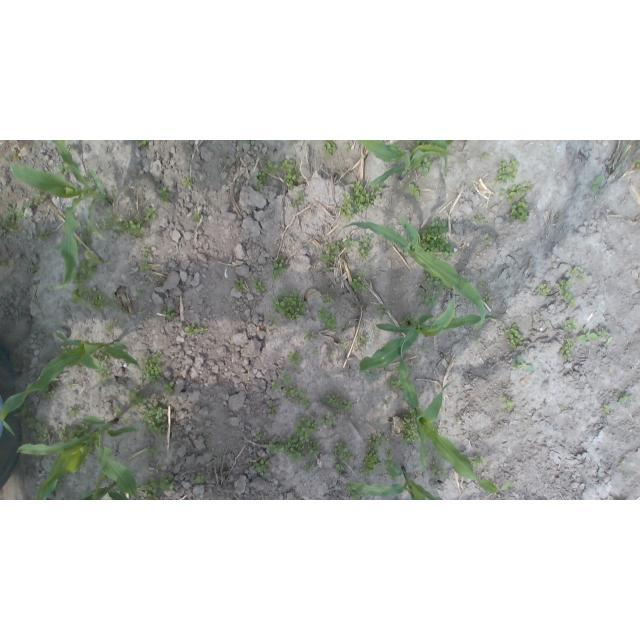Maize: (399, 339, 512, 493), (338, 217, 486, 332), (0, 140, 112, 291), (0, 328, 144, 433), (359, 285, 510, 372), (16, 417, 141, 500), (360, 140, 453, 186), (338, 467, 446, 500), (72, 480, 137, 500)
Weeds: (419, 217, 458, 261), (341, 182, 375, 222), (273, 287, 307, 321), (267, 436, 306, 465), (141, 402, 171, 435), (73, 251, 102, 283), (1, 203, 26, 236), (140, 351, 165, 383), (399, 413, 421, 445), (280, 158, 301, 190), (323, 393, 353, 415), (57, 424, 91, 443), (26, 417, 50, 442), (494, 155, 515, 183), (358, 450, 381, 475), (320, 240, 340, 268), (98, 213, 122, 236), (510, 197, 532, 222), (317, 307, 339, 332), (422, 271, 447, 291), (138, 478, 160, 500), (294, 417, 318, 437), (128, 388, 147, 413), (364, 431, 390, 449), (428, 460, 450, 481), (123, 216, 146, 236), (350, 272, 370, 295), (331, 442, 353, 462), (88, 289, 108, 311), (69, 284, 90, 304), (505, 324, 524, 346), (271, 257, 288, 280), (511, 354, 534, 371), (498, 185, 518, 204), (385, 374, 403, 395), (576, 326, 598, 343), (596, 325, 612, 347), (304, 437, 321, 457), (559, 339, 575, 360), (420, 290, 438, 308), (29, 191, 47, 209), (39, 381, 56, 400), (358, 238, 372, 260), (321, 141, 337, 160), (569, 265, 588, 281), (90, 352, 108, 368), (339, 235, 358, 250), (251, 459, 270, 474), (297, 389, 311, 409), (263, 160, 279, 177), (289, 191, 305, 208), (556, 278, 573, 294), (562, 293, 579, 309), (375, 303, 391, 320), (534, 283, 552, 297), (158, 185, 172, 203), (160, 476, 175, 492), (250, 279, 266, 294), (232, 277, 246, 294), (56, 160, 70, 177), (254, 171, 265, 192), (418, 158, 432, 174), (145, 446, 159, 462), (14, 407, 30, 421), (96, 366, 110, 382), (590, 175, 602, 193), (517, 180, 532, 194), (561, 319, 577, 332), (282, 386, 298, 399), (33, 228, 49, 241), (145, 206, 158, 222), (288, 350, 301, 366), (470, 456, 487, 468), (501, 396, 515, 410), (321, 415, 336, 428), (184, 324, 199, 337), (407, 183, 419, 198), (373, 184, 384, 200), (60, 343, 77, 353), (359, 368, 376, 378), (347, 488, 361, 500), (162, 309, 177, 320), (401, 316, 416, 326), (140, 248, 152, 260), (53, 477, 63, 491), (164, 381, 174, 395), (619, 396, 634, 405), (195, 472, 206, 484), (107, 295, 118, 307), (255, 432, 265, 445), (139, 261, 152, 271), (267, 314, 277, 327), (267, 403, 278, 414), (181, 177, 192, 188), (339, 340, 351, 350), (382, 458, 396, 466), (433, 152, 444, 162), (303, 463, 314, 473), (281, 374, 291, 385), (69, 408, 81, 417), (11, 149, 20, 161), (412, 141, 432, 146), (191, 211, 201, 221), (105, 322, 115, 332), (302, 329, 312, 339), (270, 381, 280, 391), (114, 407, 123, 418), (380, 398, 390, 407), (483, 294, 493, 303), (602, 405, 612, 414), (199, 326, 210, 334), (29, 264, 37, 275), (418, 345, 430, 352), (136, 141, 148, 148), (341, 324, 351, 332), (358, 334, 366, 344), (475, 214, 483, 223), (322, 296, 334, 302), (485, 234, 492, 244), (633, 158, 640, 168), (116, 309, 127, 315), (90, 446, 97, 455), (2, 259, 9, 268), (87, 225, 93, 235), (393, 366, 400, 374), (344, 143, 350, 152), (76, 242, 82, 251), (57, 495, 67, 500), (482, 153, 489, 160), (328, 351, 335, 358), (434, 450, 440, 458), (156, 277, 164, 283), (123, 417, 130, 423), (620, 461, 626, 468), (388, 474, 396, 479), (55, 243, 61, 249), (475, 338, 481, 344), (67, 382, 73, 388), (313, 350, 319, 356), (478, 282, 485, 287), (384, 450, 391, 455), (244, 140, 252, 144), (455, 418, 461, 423), (557, 214, 563, 219), (139, 291, 146, 295), (294, 141, 299, 144), (293, 497, 297, 500), (638, 140, 640, 146), (390, 298, 394, 301), (175, 399, 178, 402), (493, 483, 496, 486)
